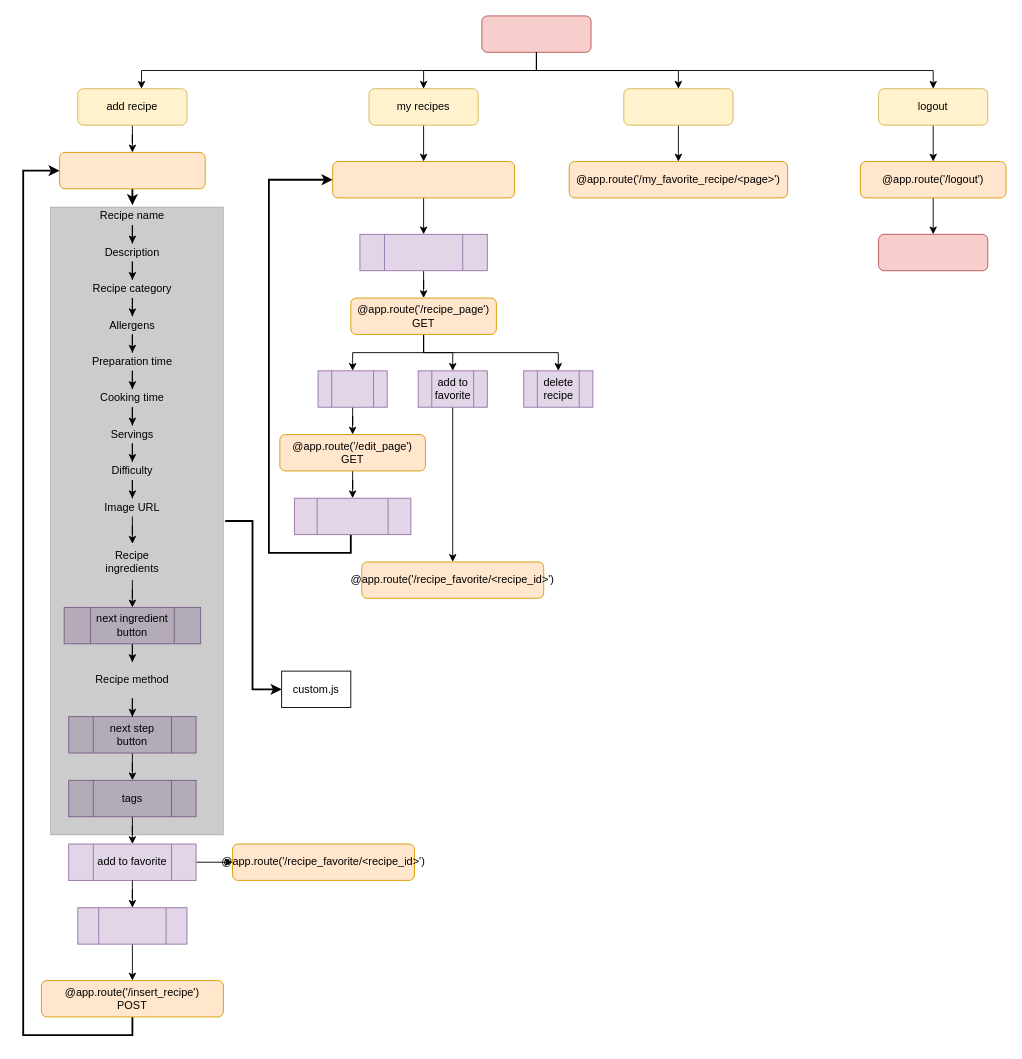
Image size: 1022x1059. Some labels were removed from this diagram. Each missing label, with the centre of its shape:
"@app.route('/add_recipe') GET" belongs at [132,170].
"@app.route('/my_recipe/<page>')" belongs at [423,179].
"add recipe button" belongs at [132,925].
"edit recipe" belongs at [352,388].
"HOME (logged out)" belongs at [933,252].
"MY ACCOUNT" belongs at [536,33].
"my favorite recipes" belongs at [678,106].
"update recipe button" belongs at [352,516].
"view recipe button" belongs at [423,252].
